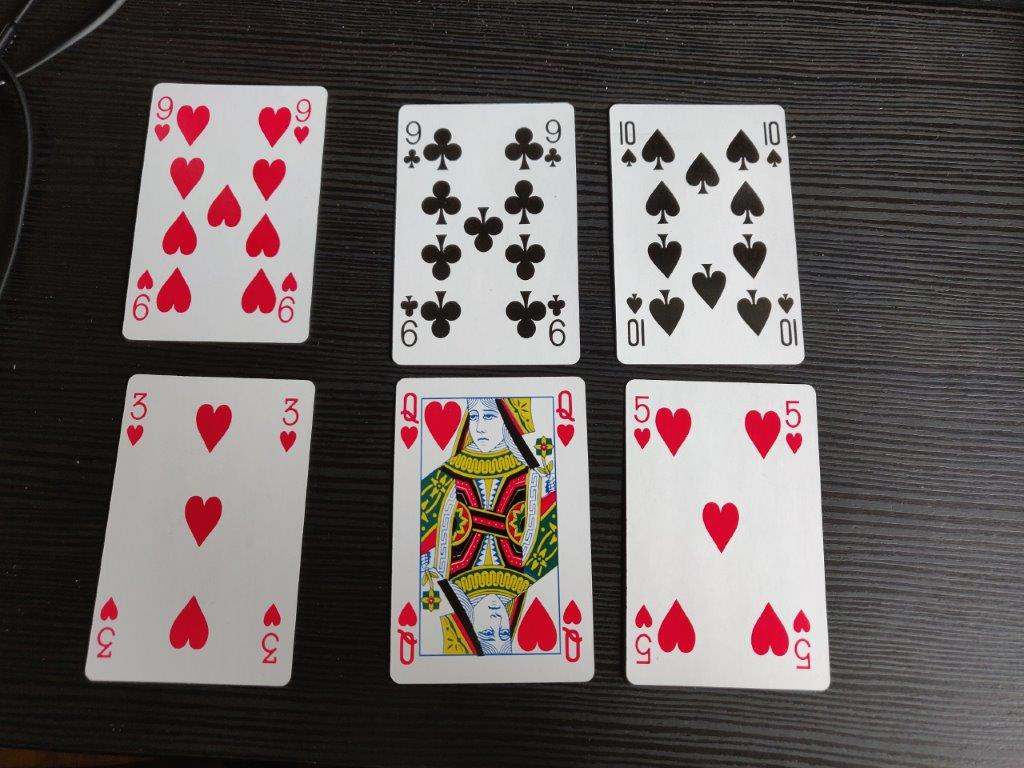10S: (757, 117, 785, 171), (613, 115, 639, 169)
3H: (277, 391, 305, 451), (125, 387, 149, 449)
5H: (779, 395, 808, 458), (626, 390, 653, 454)
9C: (539, 115, 567, 170), (397, 117, 422, 172)
9H: (285, 93, 313, 148), (149, 93, 176, 144)
QH: (396, 386, 423, 450), (552, 386, 579, 449)
